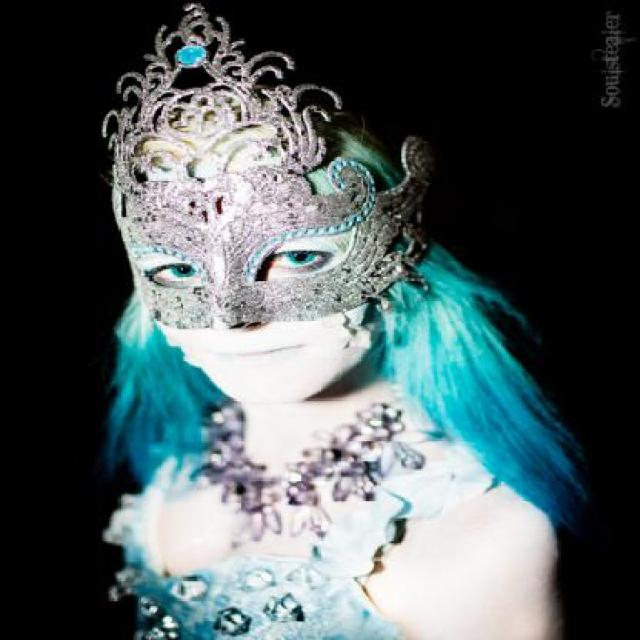obstacle: (109, 95, 566, 639)
